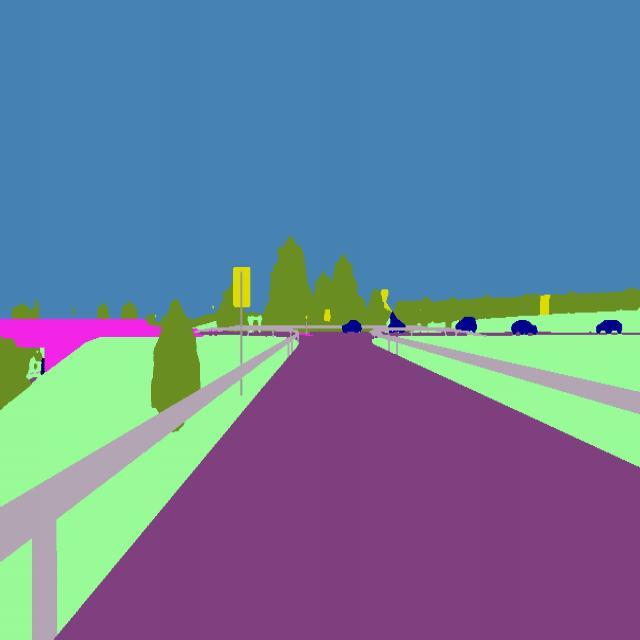safe: (593, 314, 624, 338), (508, 316, 538, 338), (456, 313, 478, 337), (386, 312, 406, 337), (340, 316, 362, 335)
